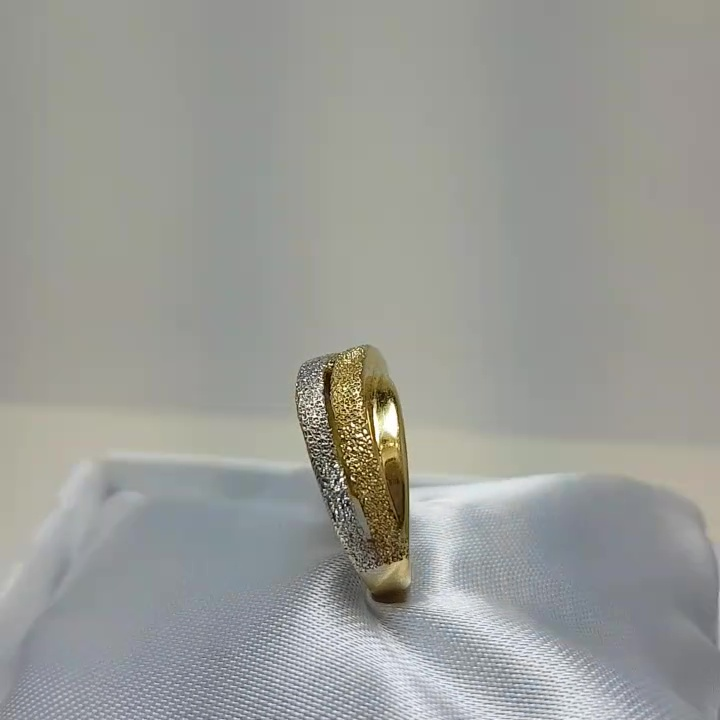Ring 5: (247, 324, 466, 597)
